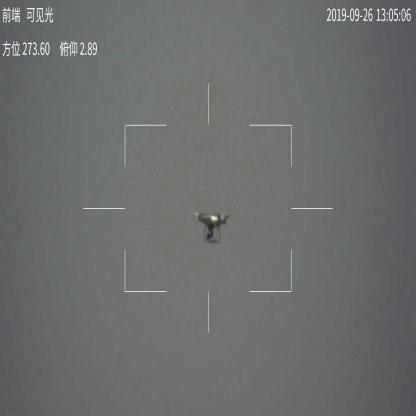uav: (193, 207, 234, 245)
